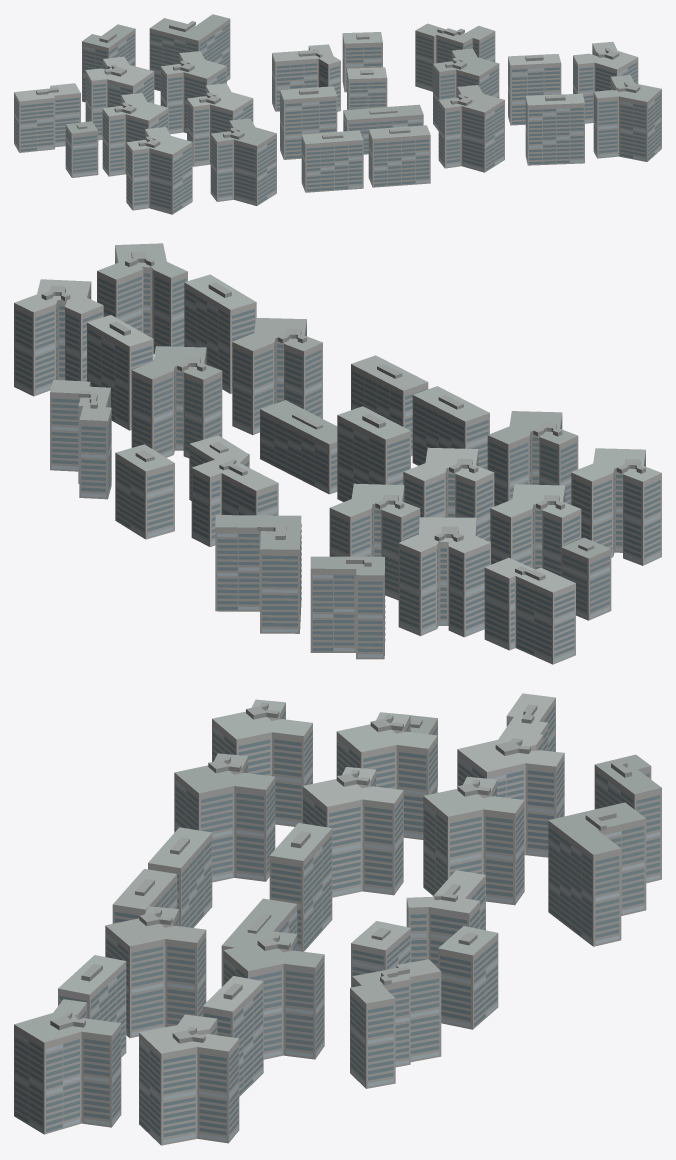
File: apt-a15603206.glb
3 views of the same model, one above another, from view 1: azimuth 30°, elevation 25°; view 2: azimuth 150°, elevation 25°; view 3: azimuth 270°, elevation 25° (orthographic). The views are drawn at different scales.
Parts seen in each view (by area): view 1: apt-a15603206; view 2: apt-a15603206; view 3: apt-a15603206.
Boxes of the visible parts, x1,y1,x2,y2 form: apt-a15603206: (14, 14, 661, 214); apt-a15603206: (14, 243, 661, 664); apt-a15603206: (14, 693, 661, 1145).
Bounding box in the file's own units: 350 × 42 × 256.
